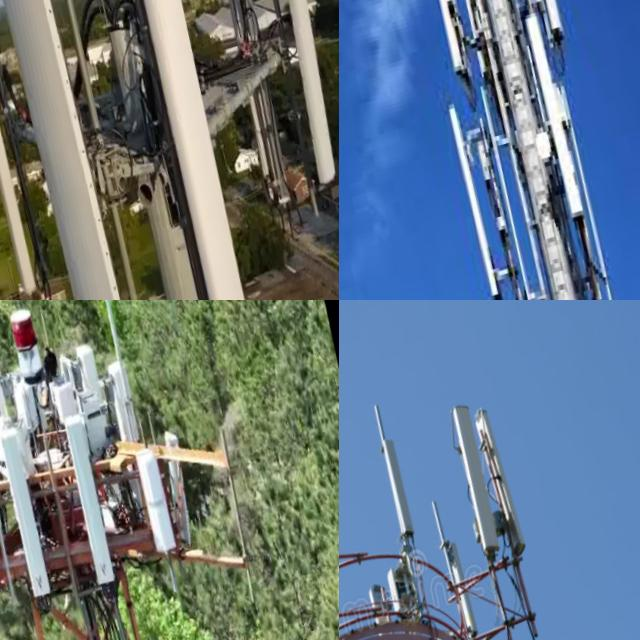GSM Antenna: (84, 0, 299, 300), (0, 0, 197, 300), (209, 0, 339, 210), (190, 0, 323, 195), (0, 0, 78, 300), (511, 5, 608, 230), (48, 402, 151, 611), (437, 97, 525, 300), (0, 429, 82, 629), (439, 392, 523, 568), (124, 434, 200, 565), (392, 0, 494, 93), (368, 423, 428, 541), (0, 358, 19, 428)
